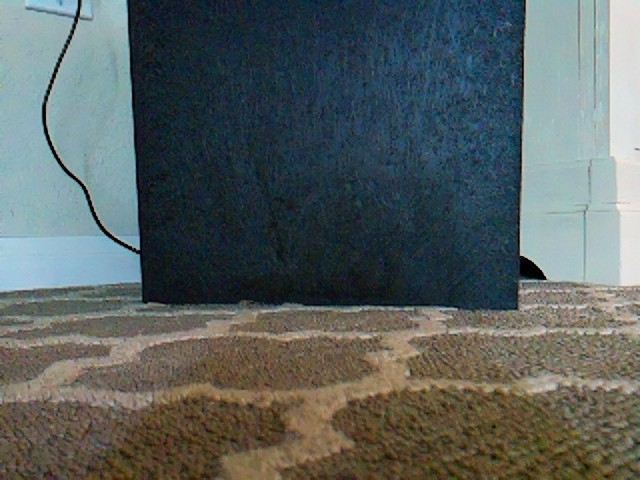Drivable Area: (30, 317, 627, 475)
Obstacle: (129, 2, 523, 312)
